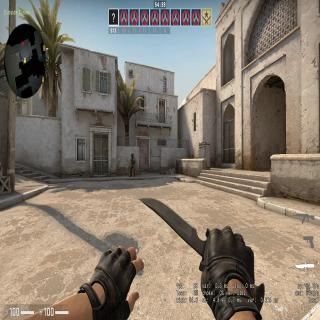CT-Body: (128, 152, 137, 178)
CT-Head: (131, 152, 134, 157)
